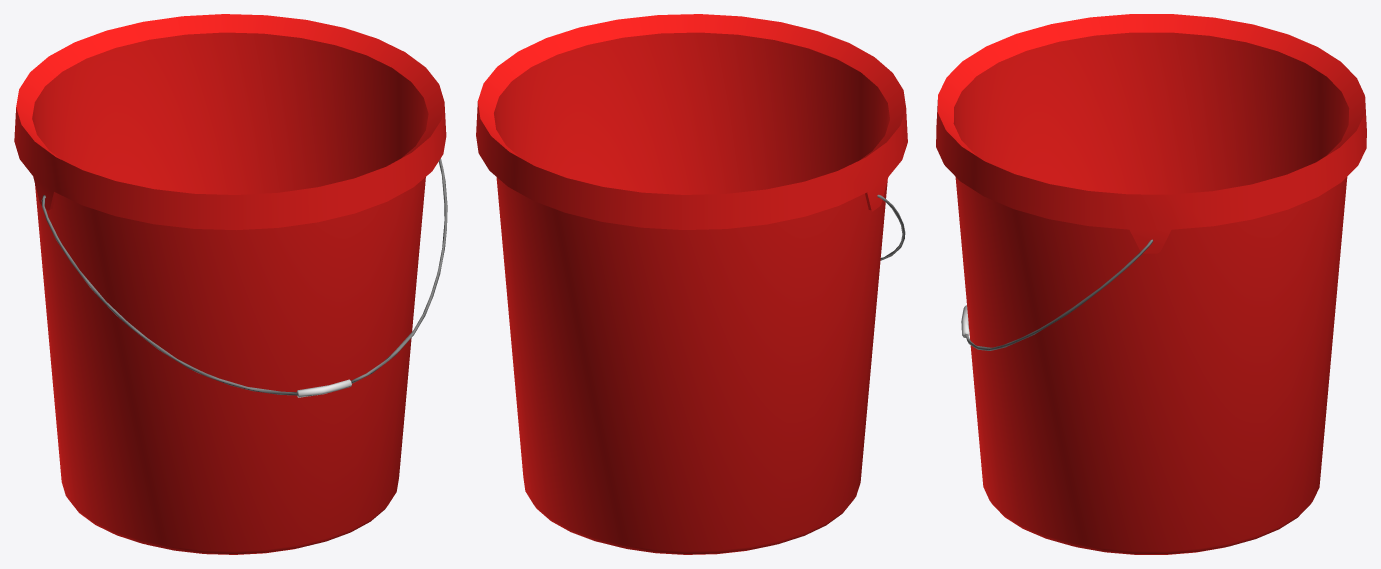
File: wiadro.fbx
3 views of the same model, side by side, from view 1: azimuth 30°, elevation 25°; view 2: azimuth 150°, elevation 25°; view 3: azimuth 270°, elevation 25° (orthographic).
Visible parts, largest first — view 1: wiadro, chwyt; view 2: wiadro; view 3: wiadro, chwyt.
Boxes of the visible parts, bbox=[...] form: wiadro: bbox=[14, 14, 446, 554]; chwyt: bbox=[41, 158, 447, 397]; wiadro: bbox=[476, 14, 907, 554]; wiadro: bbox=[936, 14, 1366, 554]; chwyt: bbox=[961, 239, 1153, 350].
Size of the model in its own units: 41.78 by 39.83 by 40.43.
